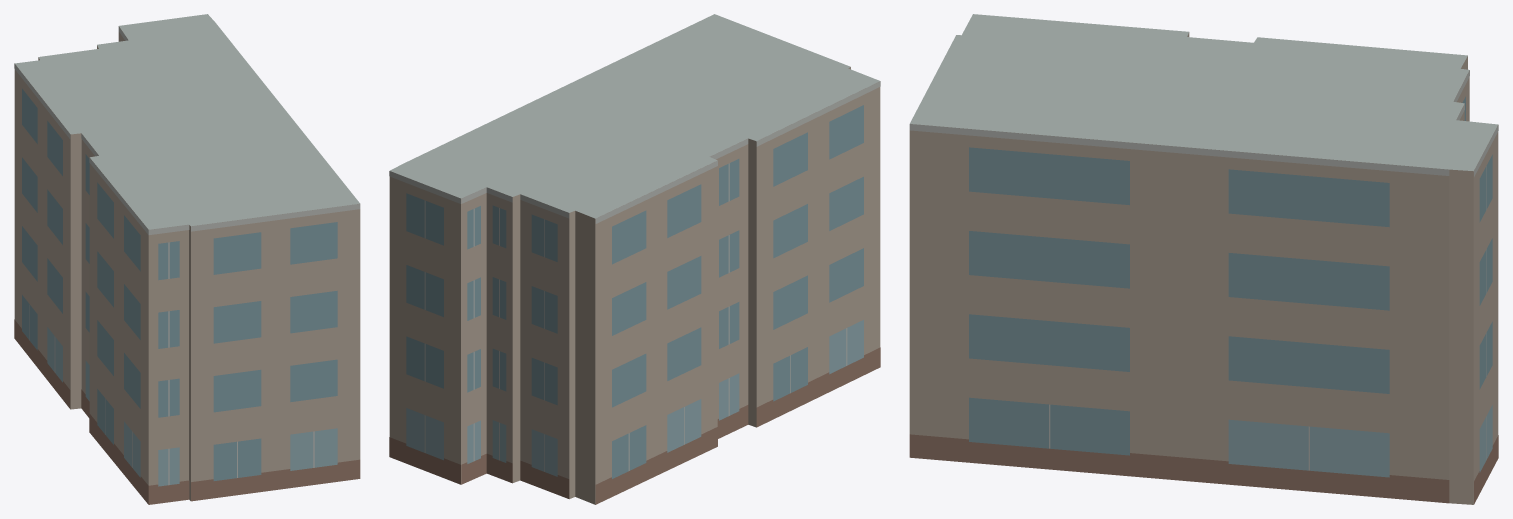
Rendered from survey-upis-33035817.glb.
3 renders of one model, left to right at view 1: azimuth 30°, elevation 25°; view 2: azimuth 150°, elevation 25°; view 3: azimuth 270°, elevation 25°, orthographic. The views are drawn at different scales.
Visible parts, largest first — view 1: survey-upis-33035817.tmp; view 2: survey-upis-33035817.tmp; view 3: survey-upis-33035817.tmp.
Part boxes in pixels (<box>): survey-upis-33035817.tmp: <box>14,14,360,504</box>; survey-upis-33035817.tmp: <box>389,14,880,504</box>; survey-upis-33035817.tmp: <box>909,14,1498,504</box>.
Bounding box in the file's own units: 12.53 × 12.4 × 19.84.
